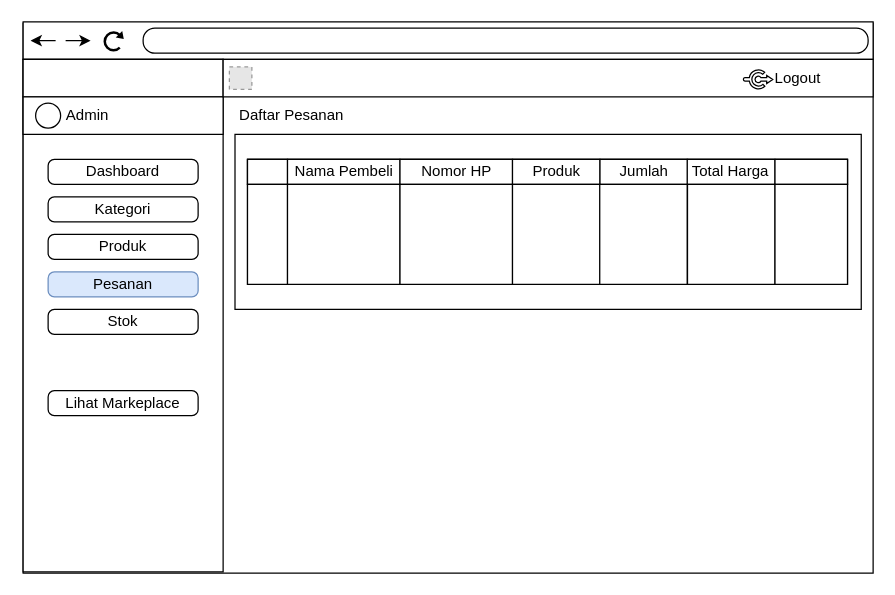
This 895x595 diagram has some shape labels left out. Grey dashed boxes stand in for pictures. Each missing label, with the centre of its shape:
"Dashboard Admin" goes at point (122, 77).
"localhost:8000/login" goes at point (505, 40).
"No" goes at point (267, 171).
"Tanggal" goes at point (811, 171).
